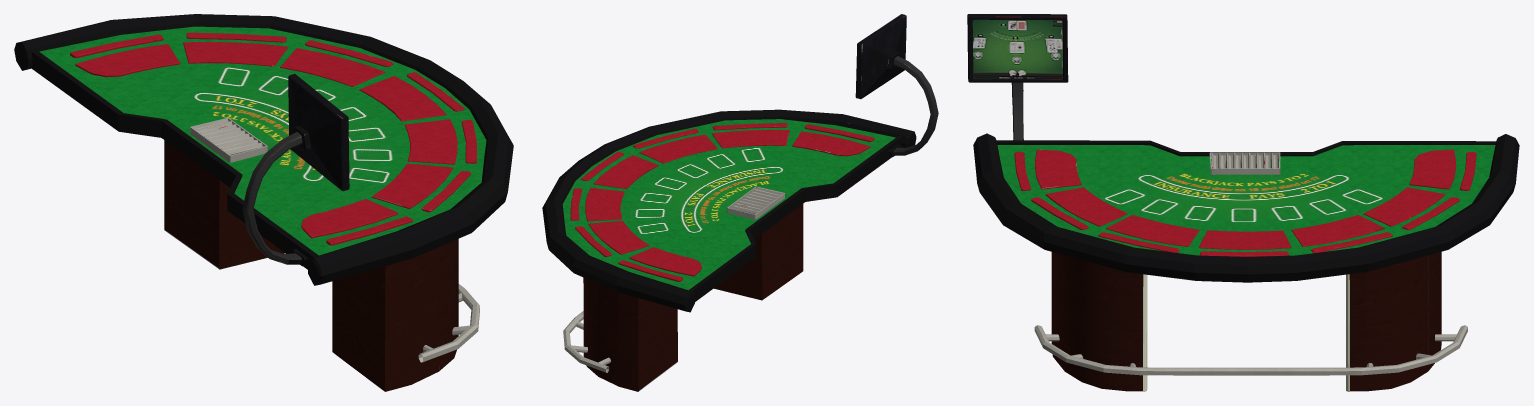
Rendered from BlackJack_Table.fbx.
The picture shows the model from 3 angles, left to right: view 1: azimuth 30°, elevation 25°; view 2: azimuth 150°, elevation 25°; view 3: azimuth 270°, elevation 25°; orthographic projection. The views are drawn at different scales.
Parts seen in each view (by area): view 1: BlackJack_Table; view 2: BlackJack_Table; view 3: BlackJack_Table.
Part boxes in pixels (<box>): BlackJack_Table: <box>14,14,513,391</box>; BlackJack_Table: <box>542,14,938,391</box>; BlackJack_Table: <box>967,14,1519,391</box>.
Size of the model in its own units: 198 by 178 by 303.
1 material, 1 textured.
